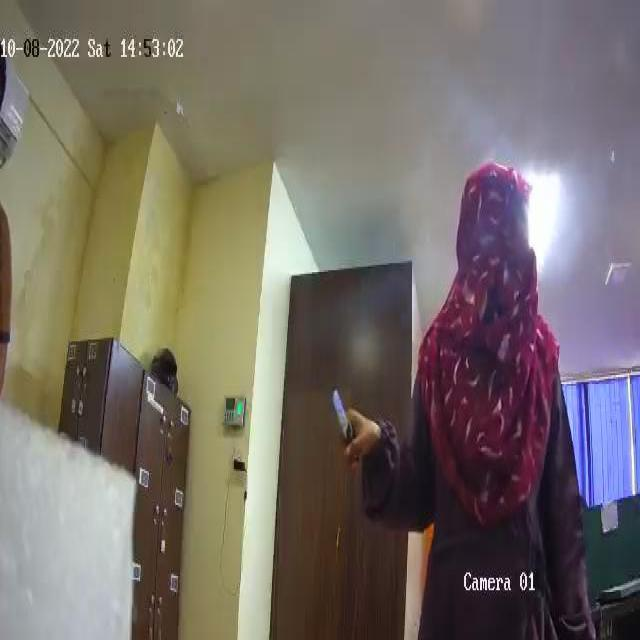Knife: (329, 386, 361, 468)
